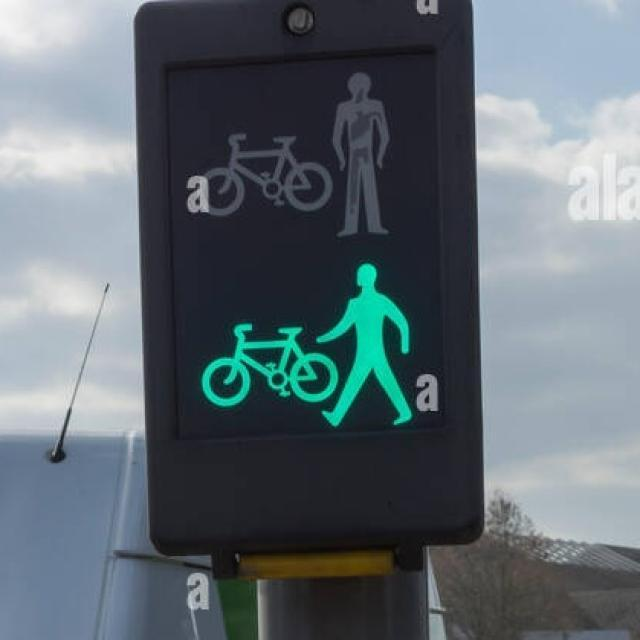geen-crossing: (320, 256, 412, 426)
